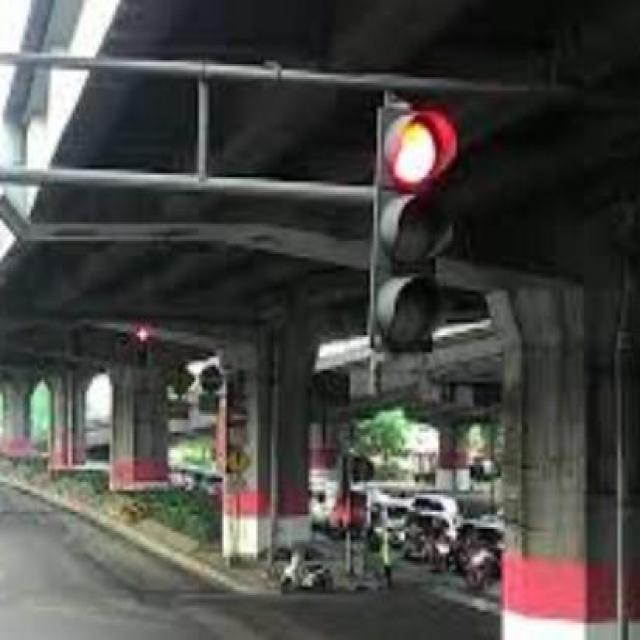red_light: (378, 106, 437, 349)
